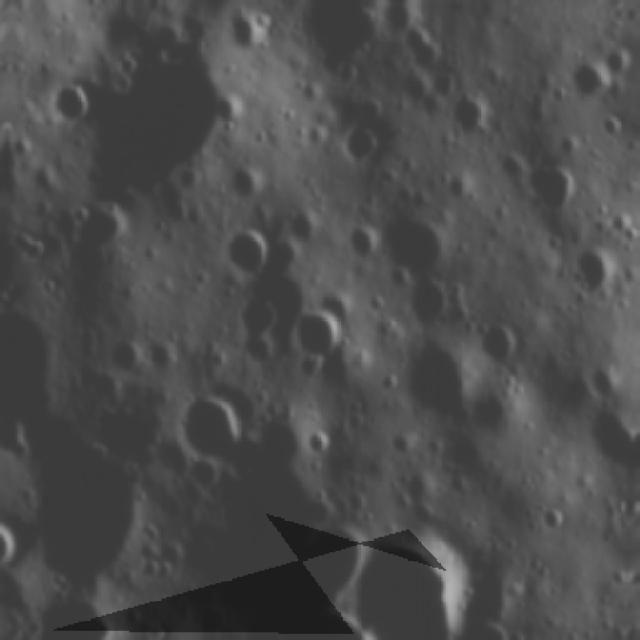crater: (358, 534, 482, 640), (384, 215, 467, 327), (178, 389, 255, 468), (71, 201, 135, 259), (240, 298, 288, 368), (591, 409, 637, 477), (532, 151, 578, 218), (297, 305, 346, 358), (478, 312, 522, 370), (228, 222, 269, 278), (576, 245, 618, 298), (339, 124, 393, 165), (50, 85, 96, 132), (231, 0, 275, 49), (569, 62, 614, 96), (208, 90, 244, 132), (0, 505, 20, 577), (304, 422, 338, 463), (609, 203, 640, 243), (598, 111, 633, 138), (545, 507, 570, 535), (635, 152, 640, 245)
